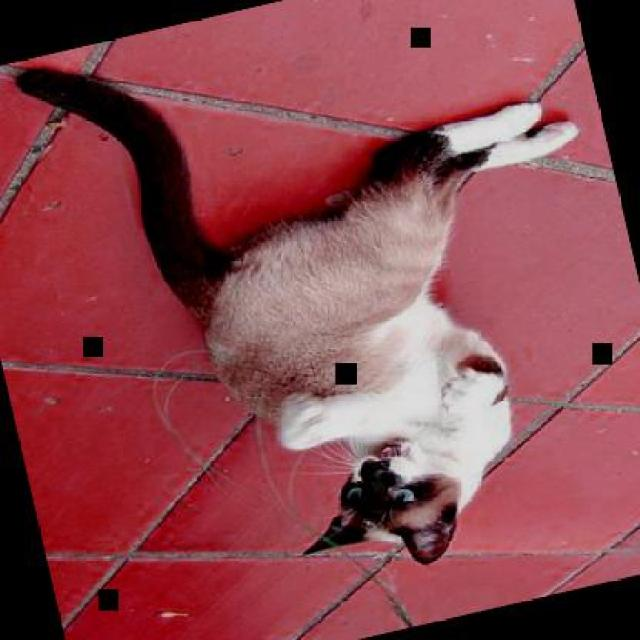cat: (9, 0, 638, 632)
